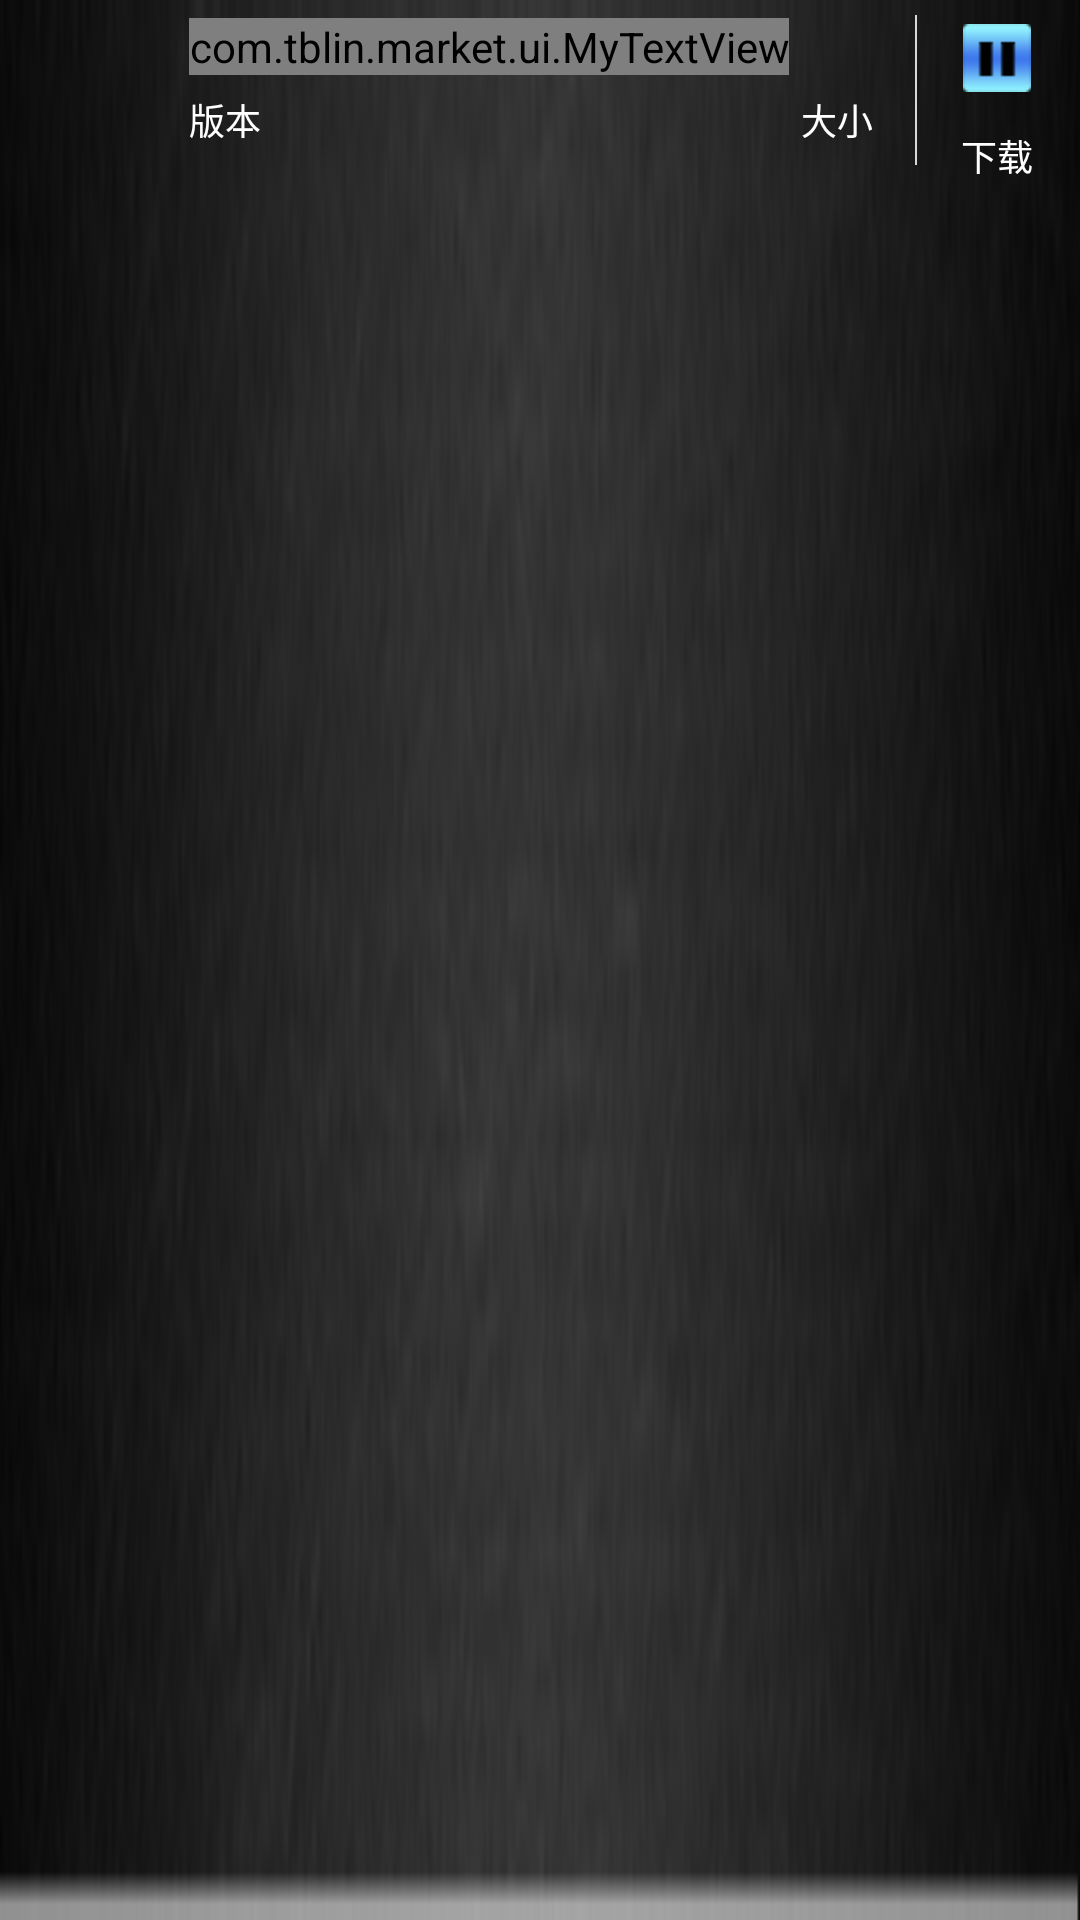

Where icons sit on this 1080 x 1920 app screen, as (x1, y1, x2, y2):
pause: (963, 24, 1031, 92)
